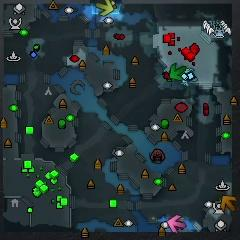x1: (167, 215, 187, 232)
x2: (96, 0, 115, 16)
x3: (181, 68, 199, 87)
x4: (169, 63, 186, 81)
x5: (221, 195, 237, 213)
